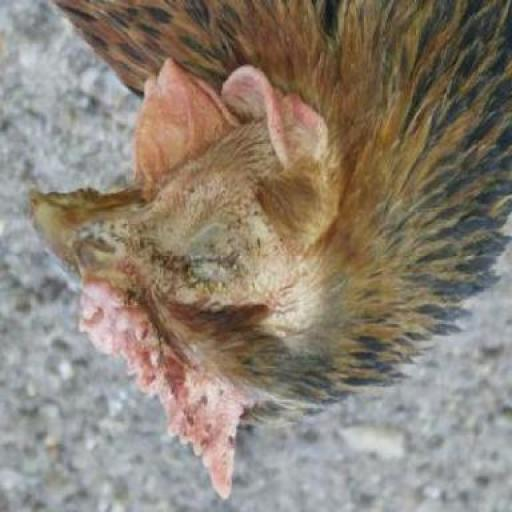disease: (37, 198, 315, 504)
